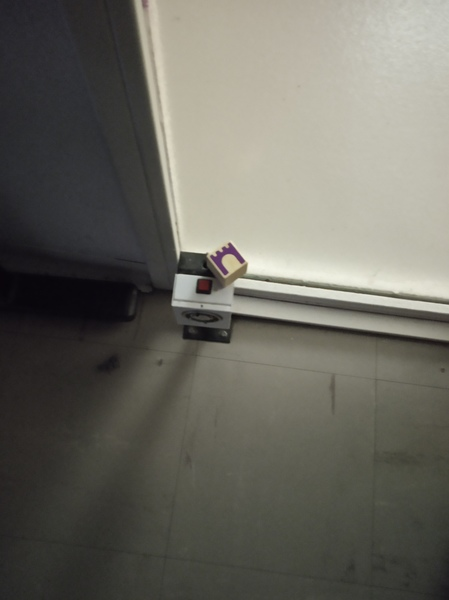violet: (208, 238, 250, 285)
